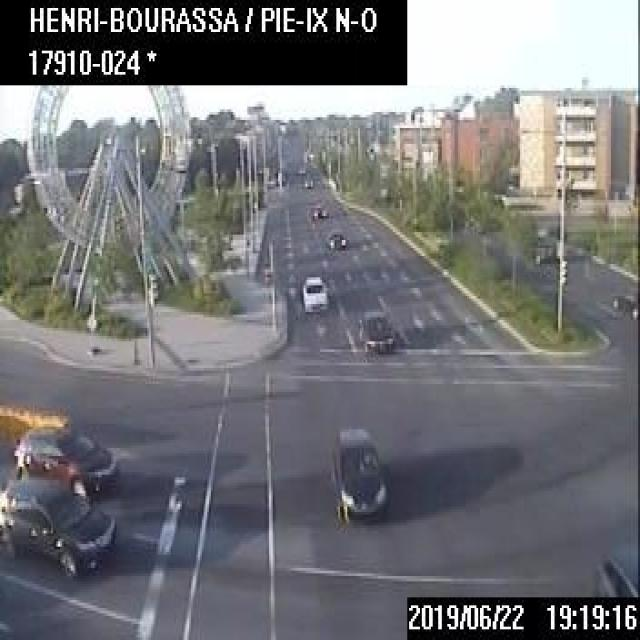vehicle: (0, 475, 115, 573), (13, 425, 115, 498), (331, 422, 385, 526), (587, 546, 638, 594), (356, 307, 393, 357), (300, 275, 327, 312), (607, 288, 638, 317), (535, 229, 558, 264), (326, 229, 346, 251), (309, 206, 327, 222), (303, 177, 312, 187)
